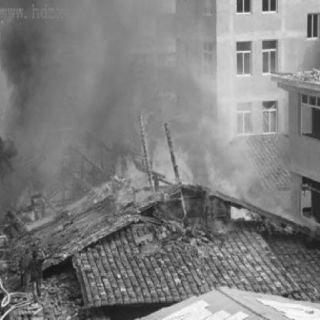Fire: (0, 91, 312, 244)
